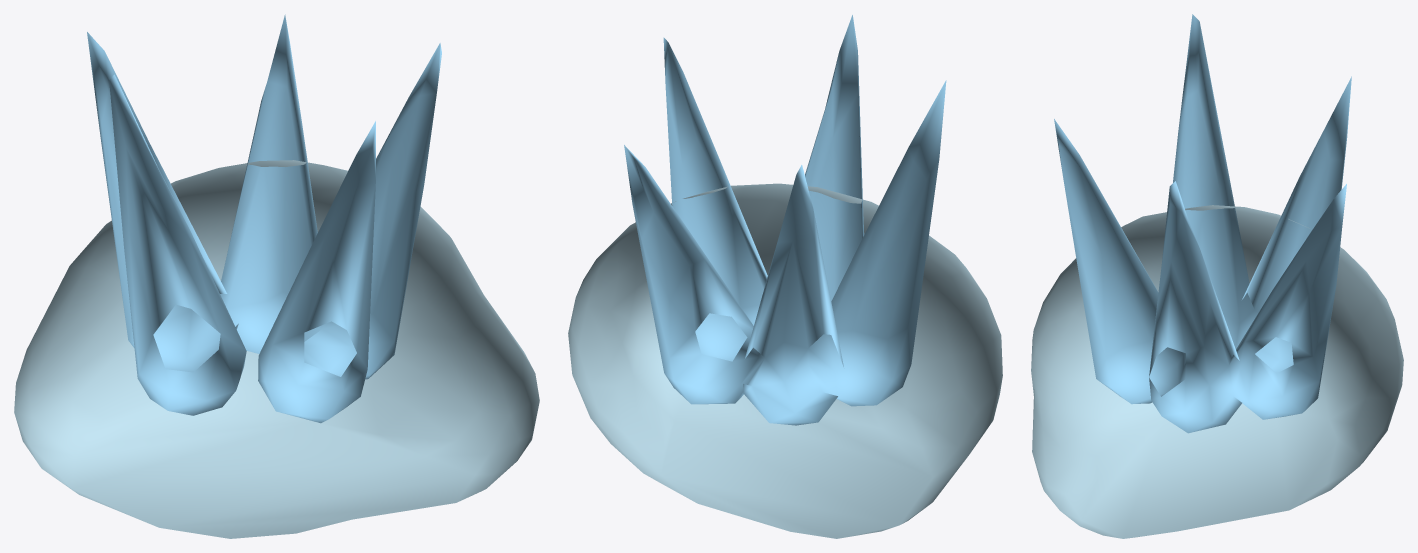
The model's file is lm_ice.glb.
The picture shows the model from 3 angles, left to right: view 1: azimuth 30°, elevation 25°; view 2: azimuth 150°, elevation 25°; view 3: azimuth 270°, elevation 25°; orthographic projection. The views are drawn at different scales.
Visible parts, largest first — view 1: body; view 2: body; view 3: body.
Boxes of the visible parts, x1,y1,x2,y2 form: body: (14,14,539,538); body: (568,15,1002,538); body: (1031,14,1403,538).
Bounding box in the file's own units: 1.94 × 1.99 × 1.72.
1 material, 1 textured.
